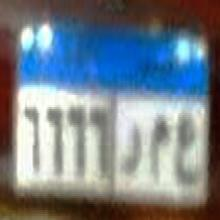6: (90, 107, 111, 179), (67, 104, 87, 178), (45, 104, 64, 178), (21, 102, 40, 174)
ain: (175, 113, 201, 190)
meem: (150, 113, 170, 180)
raa: (120, 120, 144, 186)
